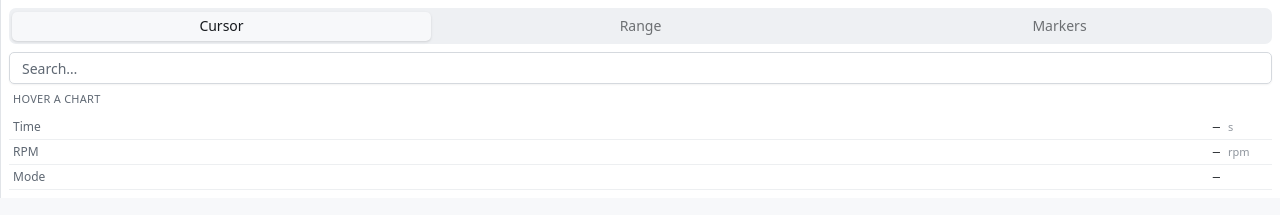
Scenario: tabs › the Range tab explains how to select when nothing is selected
Click the tab "Range".
click(640, 26)  # box [431, 12, 850, 40]
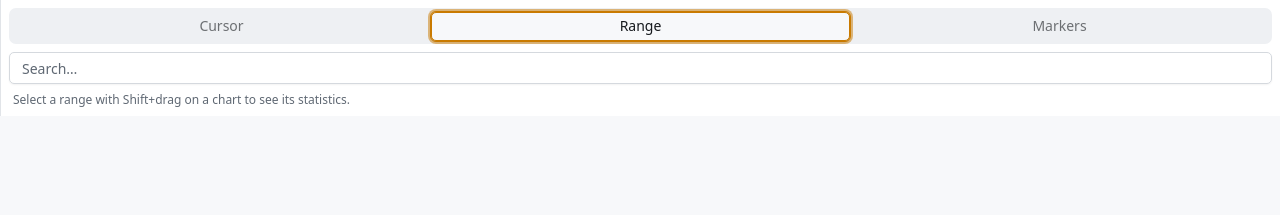
Check: the text "Shift+drag" is shown, box [13, 91, 350, 108]
